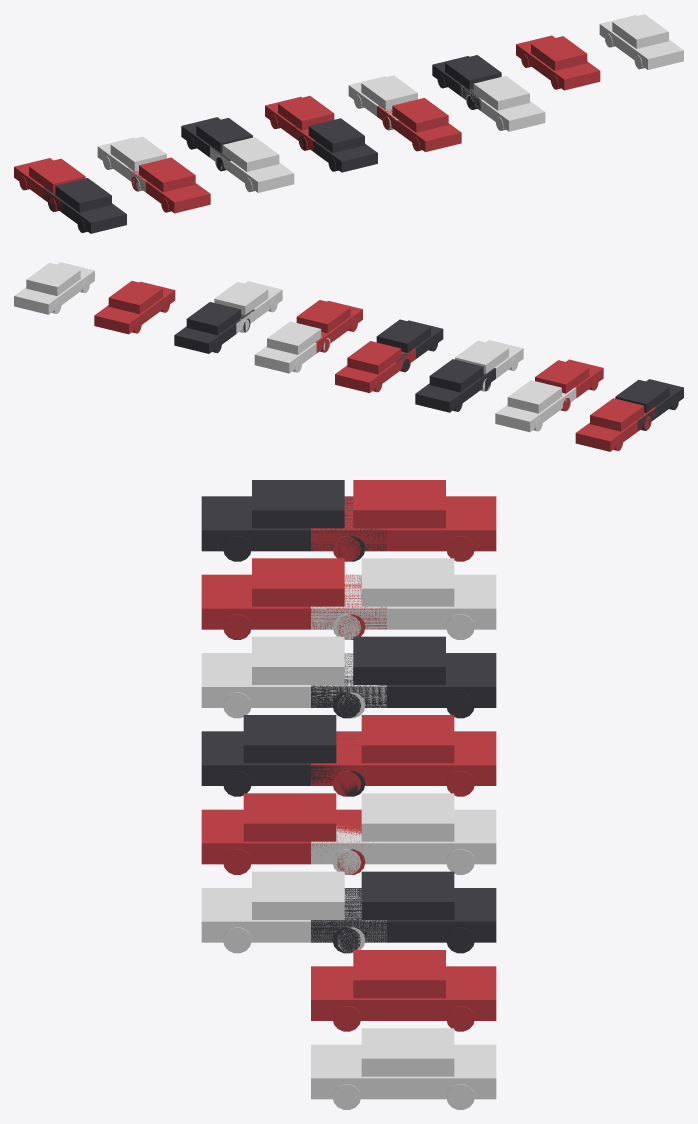
File: cars.glb
3 views of the same model, one above another, from view 1: azimuth 30°, elevation 25°; view 2: azimuth 150°, elevation 25°; view 3: azimuth 270°, elevation 25° (orthographic). The views are drawn at different scales.
Visible parts, largest first — view 1: car_6, car_7, car_8, car_12, car_10, car_13, car_9, car_11, car_3, car_5, car_1, car_0 (+2 smaller); view 2: car_6, car_7, car_2, car_0, car_1, car_3, car_5, car_4, car_12, car_13, car_11, car_8 (+2 smaller); view 3: car_7, car_6, car_3, car_1, car_0, car_5, car_2, car_4, car_9, car_10, car_13, car_8 (+2 smaller).
Boxes of the visible parts, bbox=[...] form: car_6: bbox=[516, 35, 600, 90]; car_7: bbox=[599, 14, 683, 69]; car_8: bbox=[43, 178, 126, 233]; car_12: bbox=[377, 98, 461, 152]; car_10: bbox=[210, 137, 294, 192]; car_13: bbox=[460, 76, 545, 131]; car_9: bbox=[128, 157, 210, 213]; car_11: bbox=[293, 118, 377, 172]; car_3: bbox=[265, 96, 334, 151]; car_5: bbox=[432, 55, 501, 110]; car_1: bbox=[97, 136, 166, 192]; car_0: bbox=[14, 158, 85, 211]; car_6: bbox=[94, 281, 175, 334]; car_7: bbox=[14, 262, 94, 314]; car_2: bbox=[415, 359, 495, 412]; car_0: bbox=[575, 398, 656, 451]; car_1: bbox=[495, 380, 576, 432]; car_3: bbox=[335, 341, 415, 392]; car_5: bbox=[174, 302, 254, 353]; car_4: bbox=[254, 321, 330, 373]; car_12: bbox=[296, 300, 362, 353]; car_13: bbox=[214, 281, 282, 333]; car_11: bbox=[376, 319, 443, 372]; car_8: bbox=[615, 379, 683, 431]; car_7: bbox=[311, 1028, 496, 1109]; car_6: bbox=[311, 950, 496, 1031]; car_3: bbox=[311, 715, 496, 796]; car_1: bbox=[311, 558, 496, 639]; car_0: bbox=[311, 480, 496, 561]; car_5: bbox=[311, 871, 496, 953]; car_2: bbox=[311, 636, 496, 718]; car_4: bbox=[311, 793, 496, 874]; car_9: bbox=[201, 558, 386, 639]; car_10: bbox=[201, 636, 386, 718]; car_13: bbox=[201, 871, 386, 953]; car_8: bbox=[201, 480, 386, 561].
Bounding box in the file's own units: 32.74 × 1.29 × 7.
